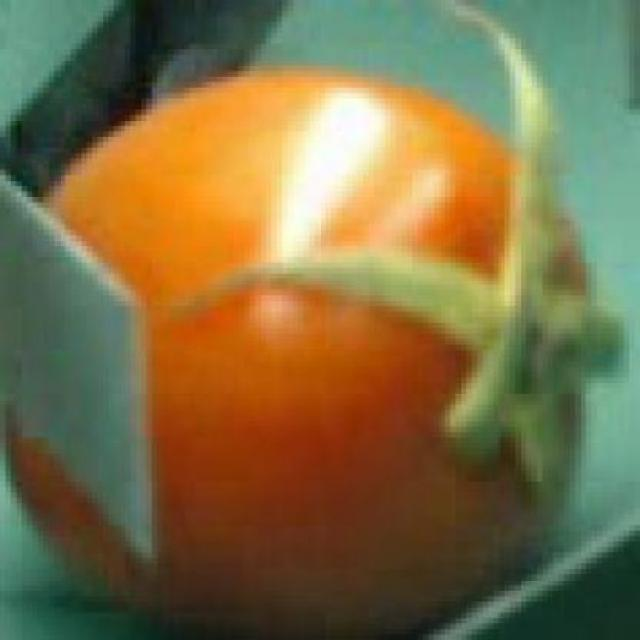tomato: (8, 73, 608, 616)
